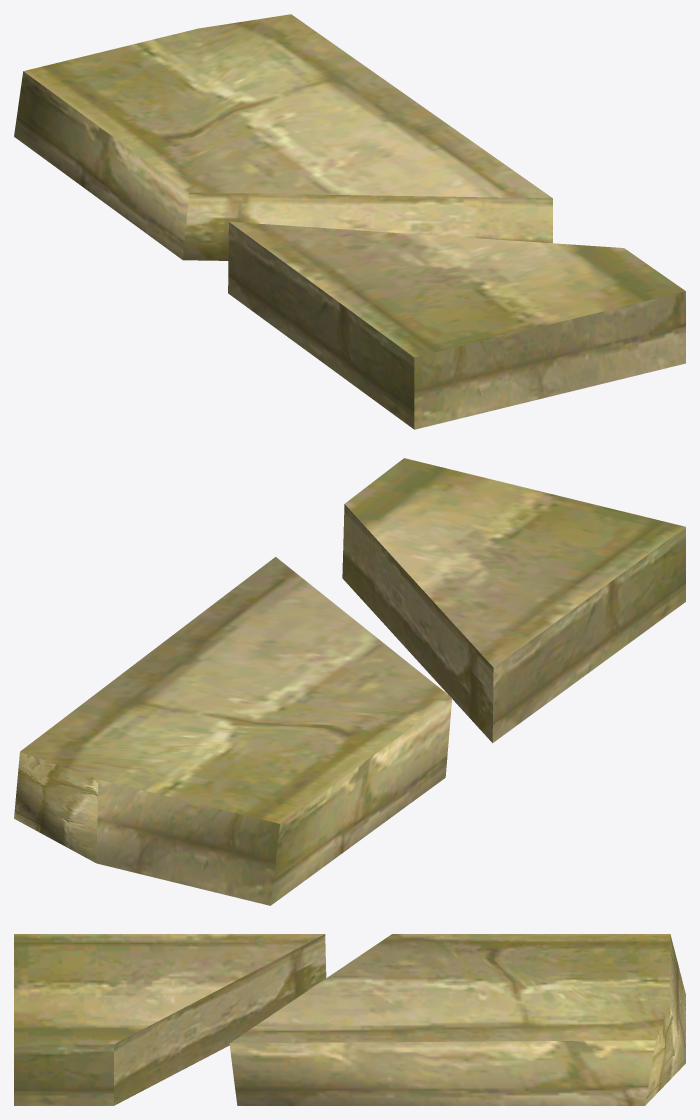
File: shamo_wujian_zhuan3.fbx
3 views of the same model, one above another, from view 1: azimuth 30°, elevation 25°; view 2: azimuth 150°, elevation 25°; view 3: azimuth 270°, elevation 25° (orthographic). The views are drawn at different scales.
Visible parts, largest first — view 1: pCube63; view 2: pCube63; view 3: pCube63.
Part boxes in pixels (x1,y1,x2,y2): pCube63: [14, 14, 685, 429]; pCube63: [14, 458, 685, 905]; pCube63: [14, 934, 685, 1105].
Bounding box in the file's own units: 1.6 × 0.4057 × 4.07.
